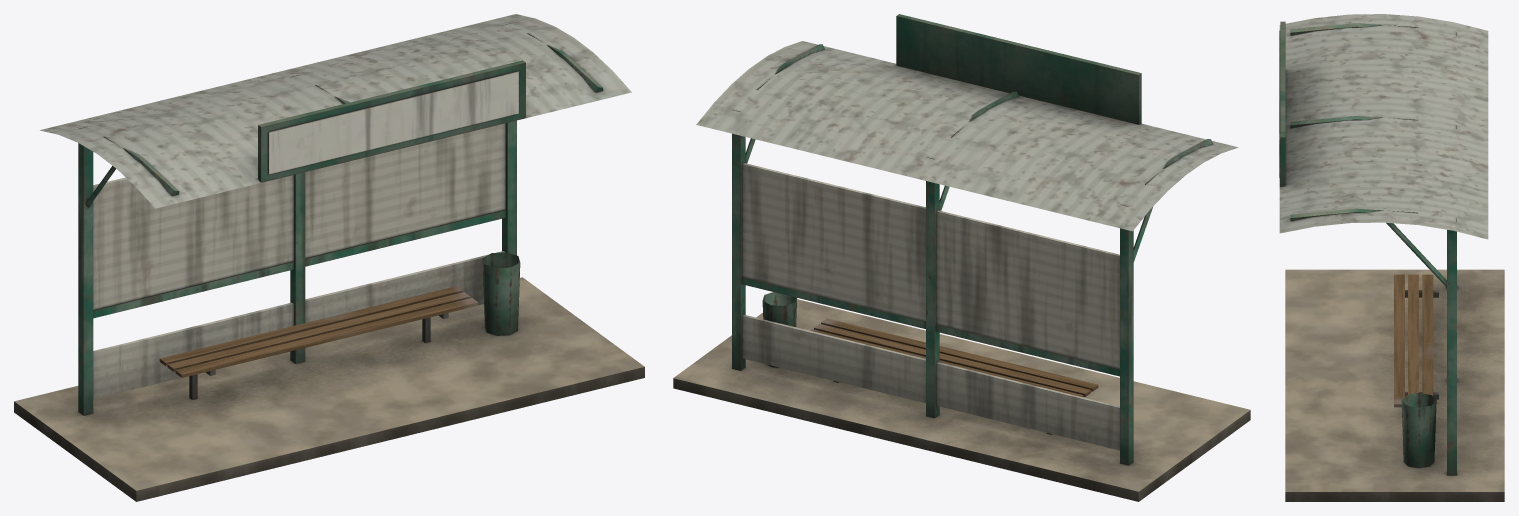
The model's file is bus_stop.glb.
3 renders of one model, left to right at view 1: azimuth 30°, elevation 25°; view 2: azimuth 150°, elevation 25°; view 3: azimuth 270°, elevation 25°, orthographic. The views are drawn at different scales.
Parts seen in each view (by area): view 1: body; view 2: body; view 3: body.
Boxes of the visible parts, x1=… form: body: x1=14, y1=14, x2=644, y2=501; body: x1=673, y1=14, x2=1250, y2=501; body: x1=1279, y1=14, x2=1504, y2=501.
Size of the model in its own units: 4.8 by 3.13 by 2.05.
Materials: 1 (1 with a texture image).
